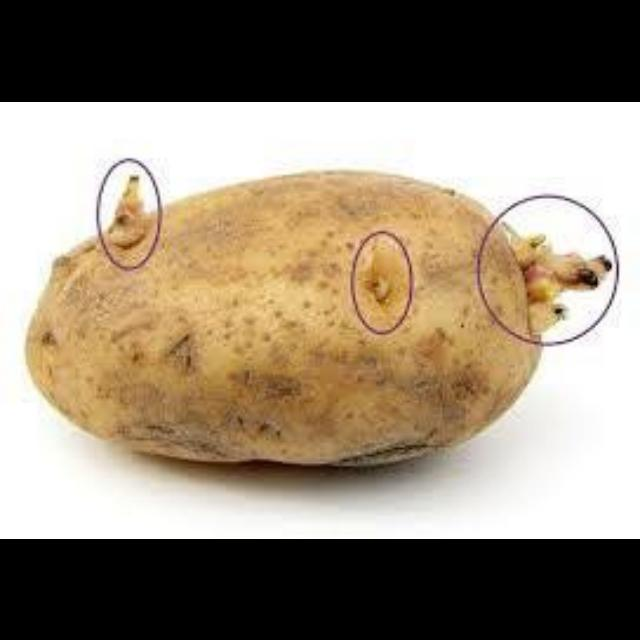Sprouted potato: (14, 158, 574, 472)
